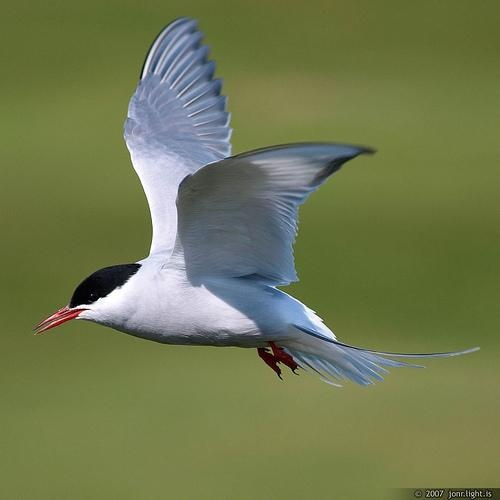bird: (30, 15, 479, 399)
